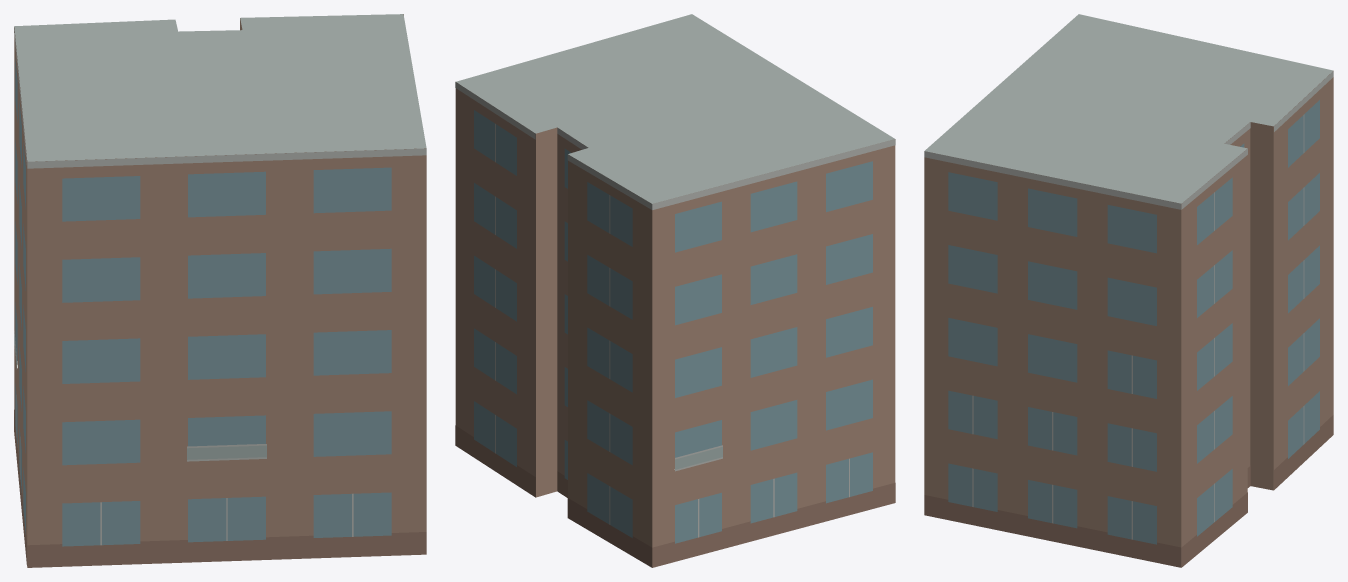
File: survey-upis-32774050.glb
The picture shows the model from 3 angles, left to right: view 1: azimuth 30°, elevation 25°; view 2: azimuth 150°, elevation 25°; view 3: azimuth 270°, elevation 25°; orthographic projection. The views are drawn at different scales.
Visible parts, largest first — view 1: survey-upis-32774050.tmp; view 2: survey-upis-32774050.tmp; view 3: survey-upis-32774050.tmp.
Boxes of the visible parts, bbox=[...] form: survey-upis-32774050.tmp: bbox=[14, 14, 426, 567]; survey-upis-32774050.tmp: bbox=[455, 14, 895, 567]; survey-upis-32774050.tmp: bbox=[924, 14, 1333, 567].
Bounding box in the file's own units: 15.88 × 14.2 × 14.48.
